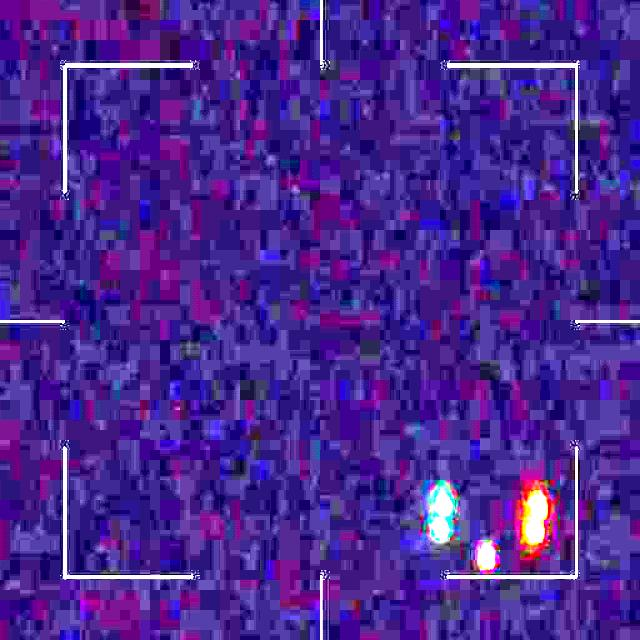bird: (431, 481, 548, 575)
